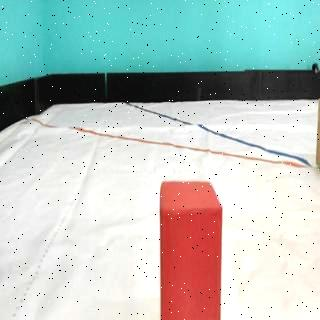redbox: (160, 183, 218, 320)
